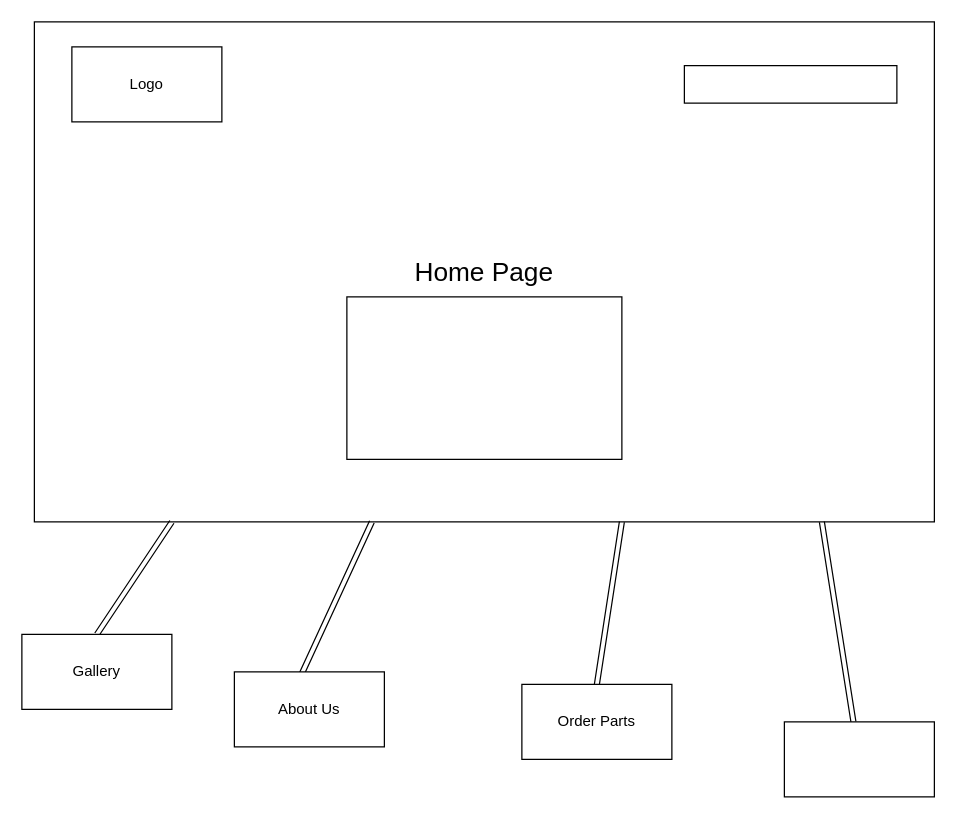
The diagram is 956 pixels wide and 819 high, and some of its shapes have lost their labels. The box of each missing label's shape, as (x1, y1, x2, y2) in pixels:
Contact Us: (783, 721, 934, 797)
Nav Bar: (683, 64, 897, 103)
Picture: (346, 296, 622, 459)
